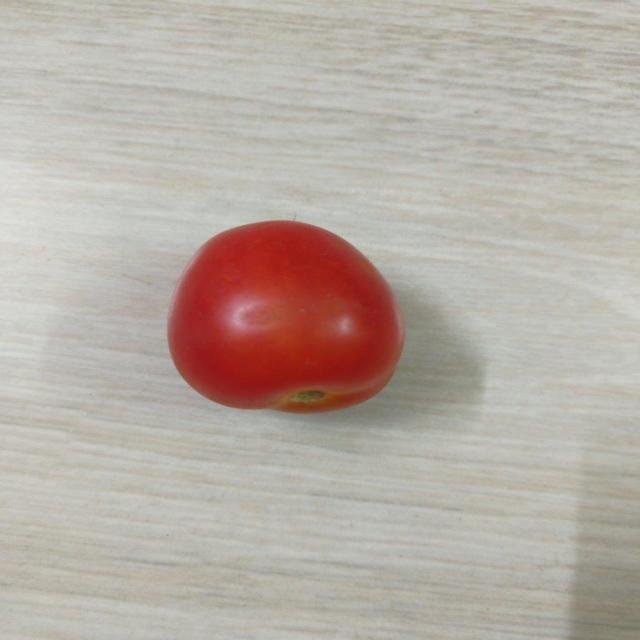Tomato: (165, 214, 412, 420)
